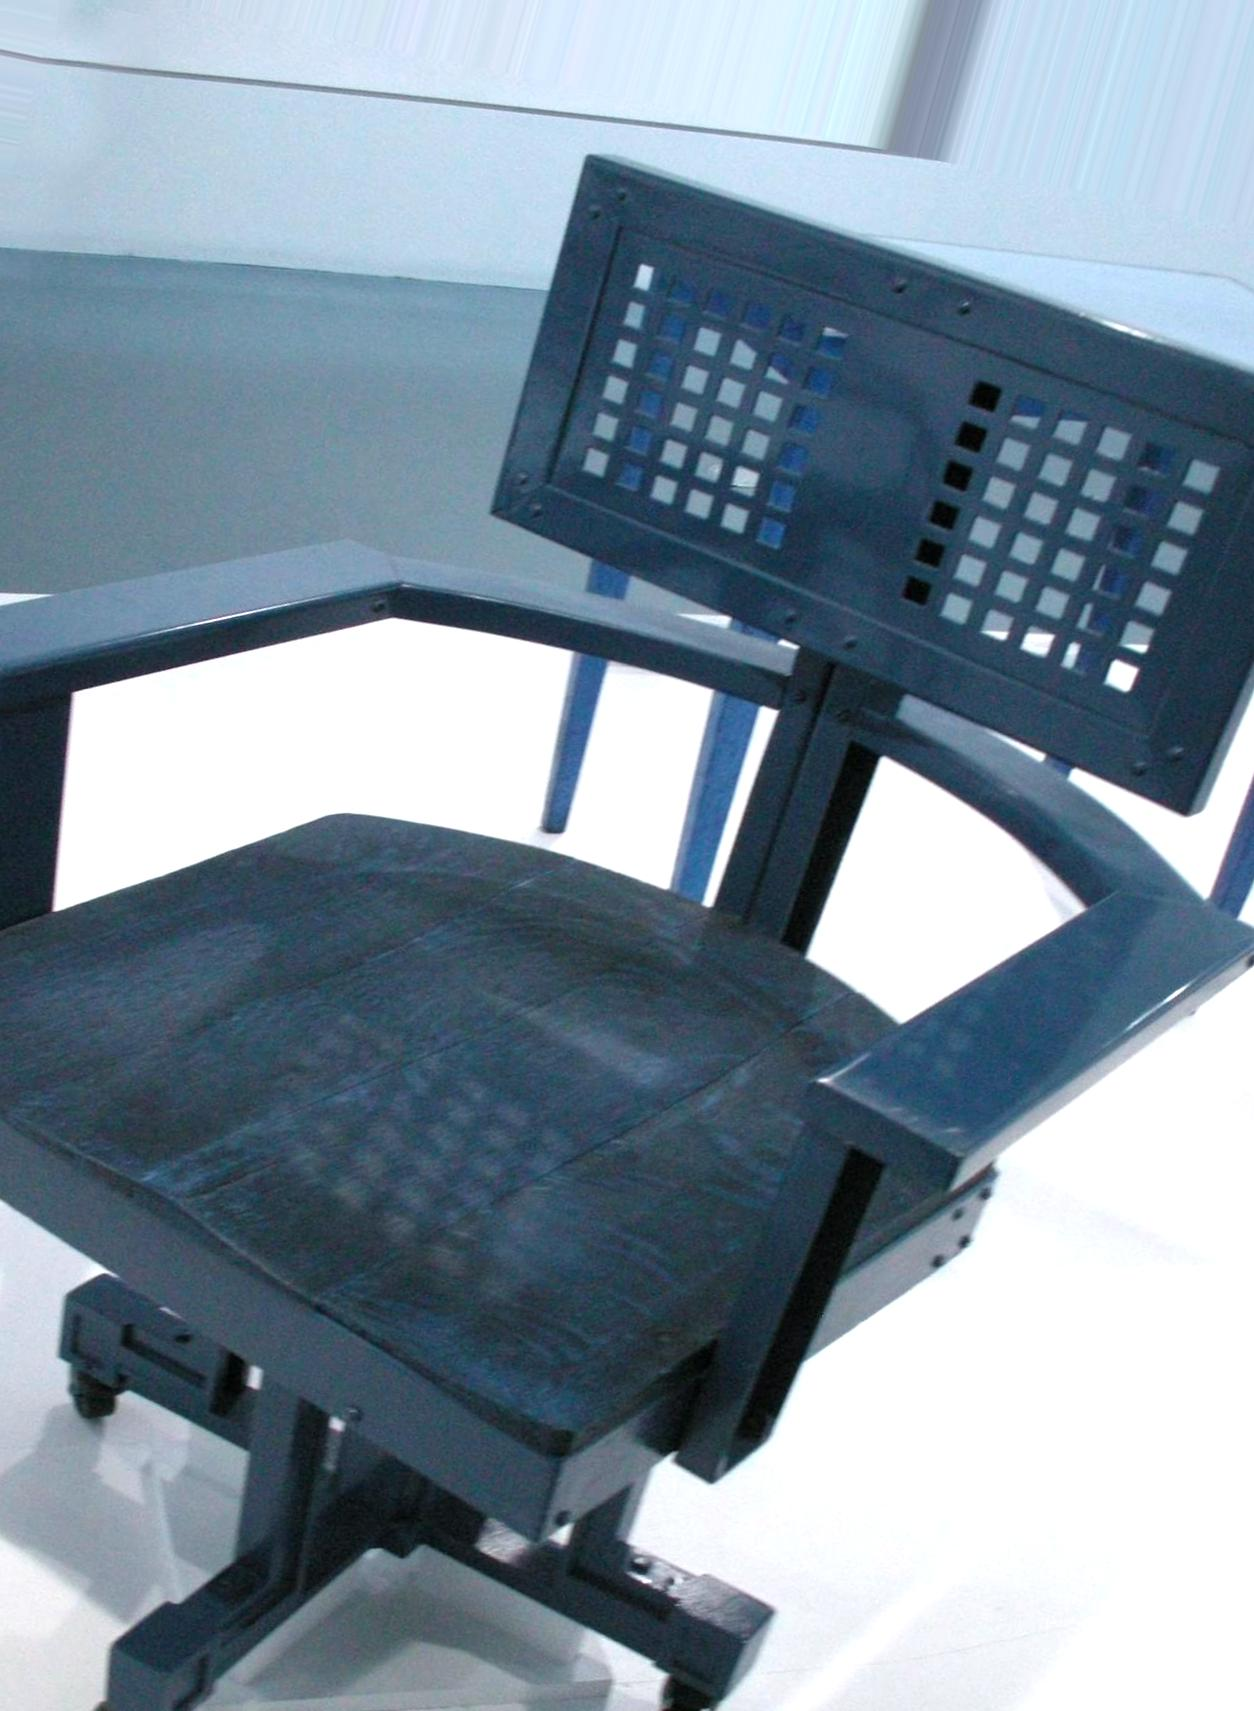chair: (1, 135, 1251, 1711)
